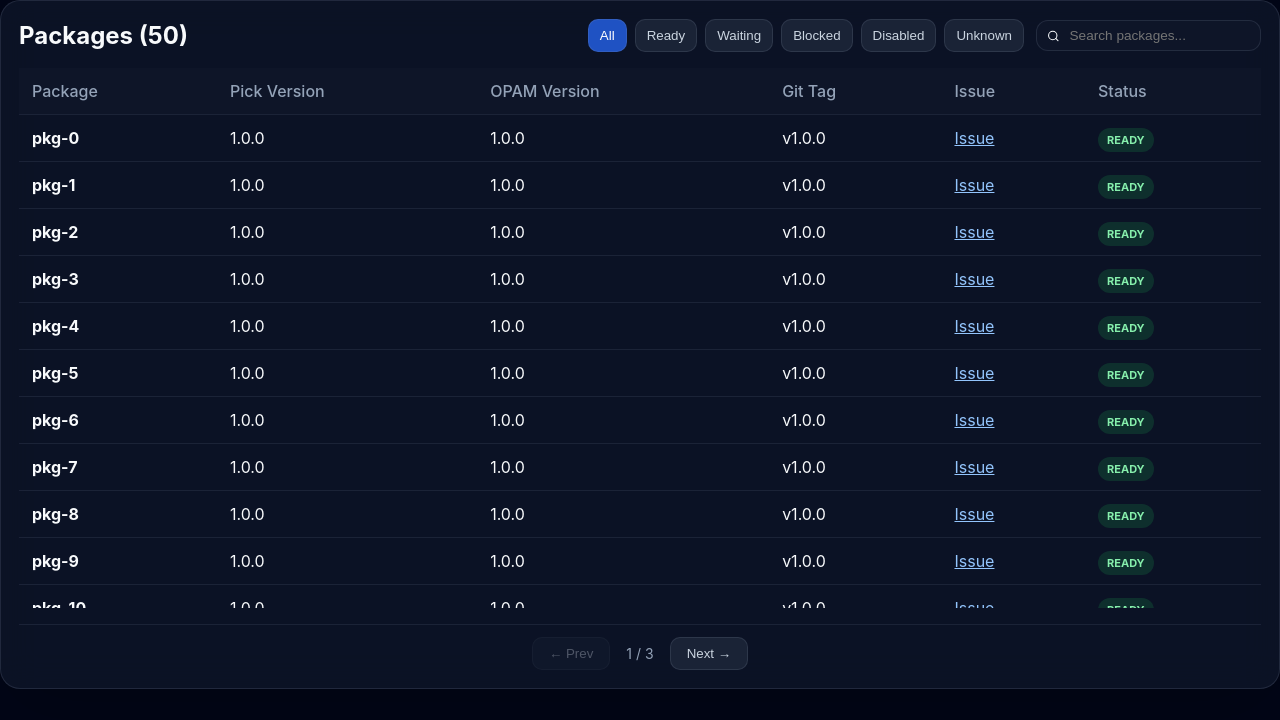
Test: PackageTable › Pagination › should navigate to previous page
# Go to page 2
Click the button "Next →" at (709, 654), box x1=670 y1=637 x2=748 y2=670
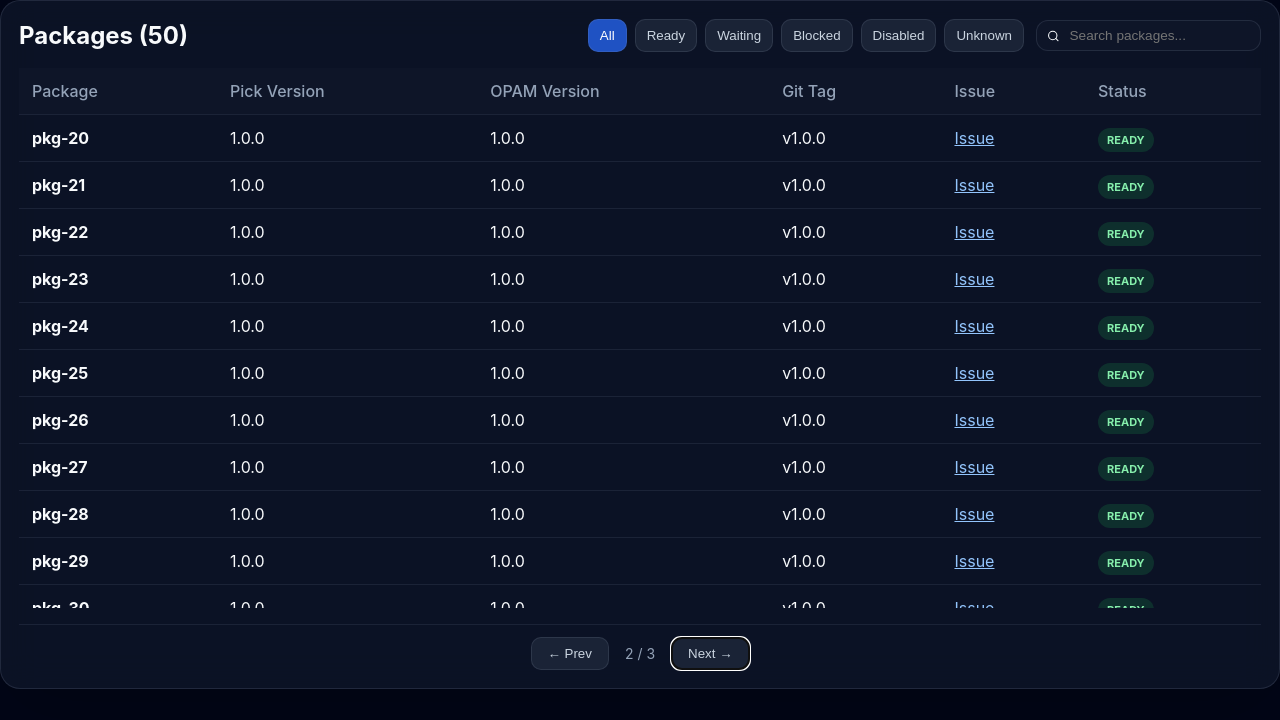
# Go back to page 1
Click the button "← Prev" at (570, 654), box x1=530 y1=637 x2=609 y2=670
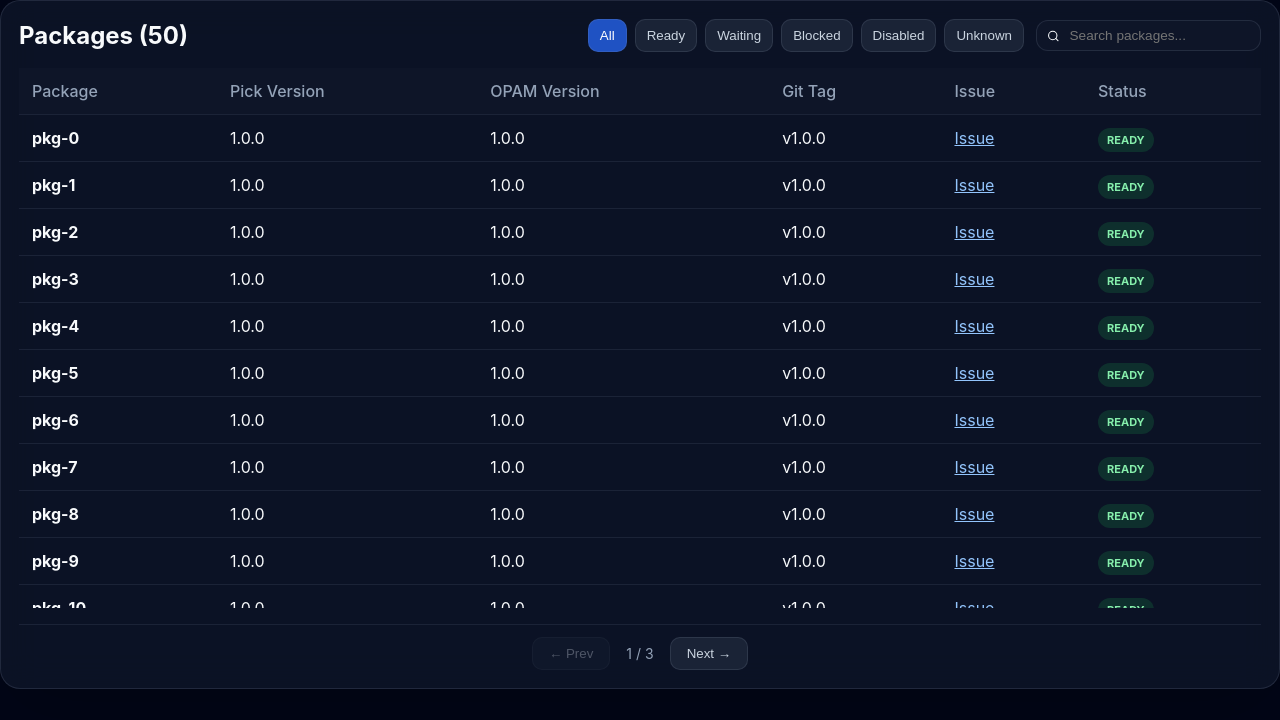
Result: the text "1 / 3" is shown at x1=626 y1=645 x2=654 y2=662
